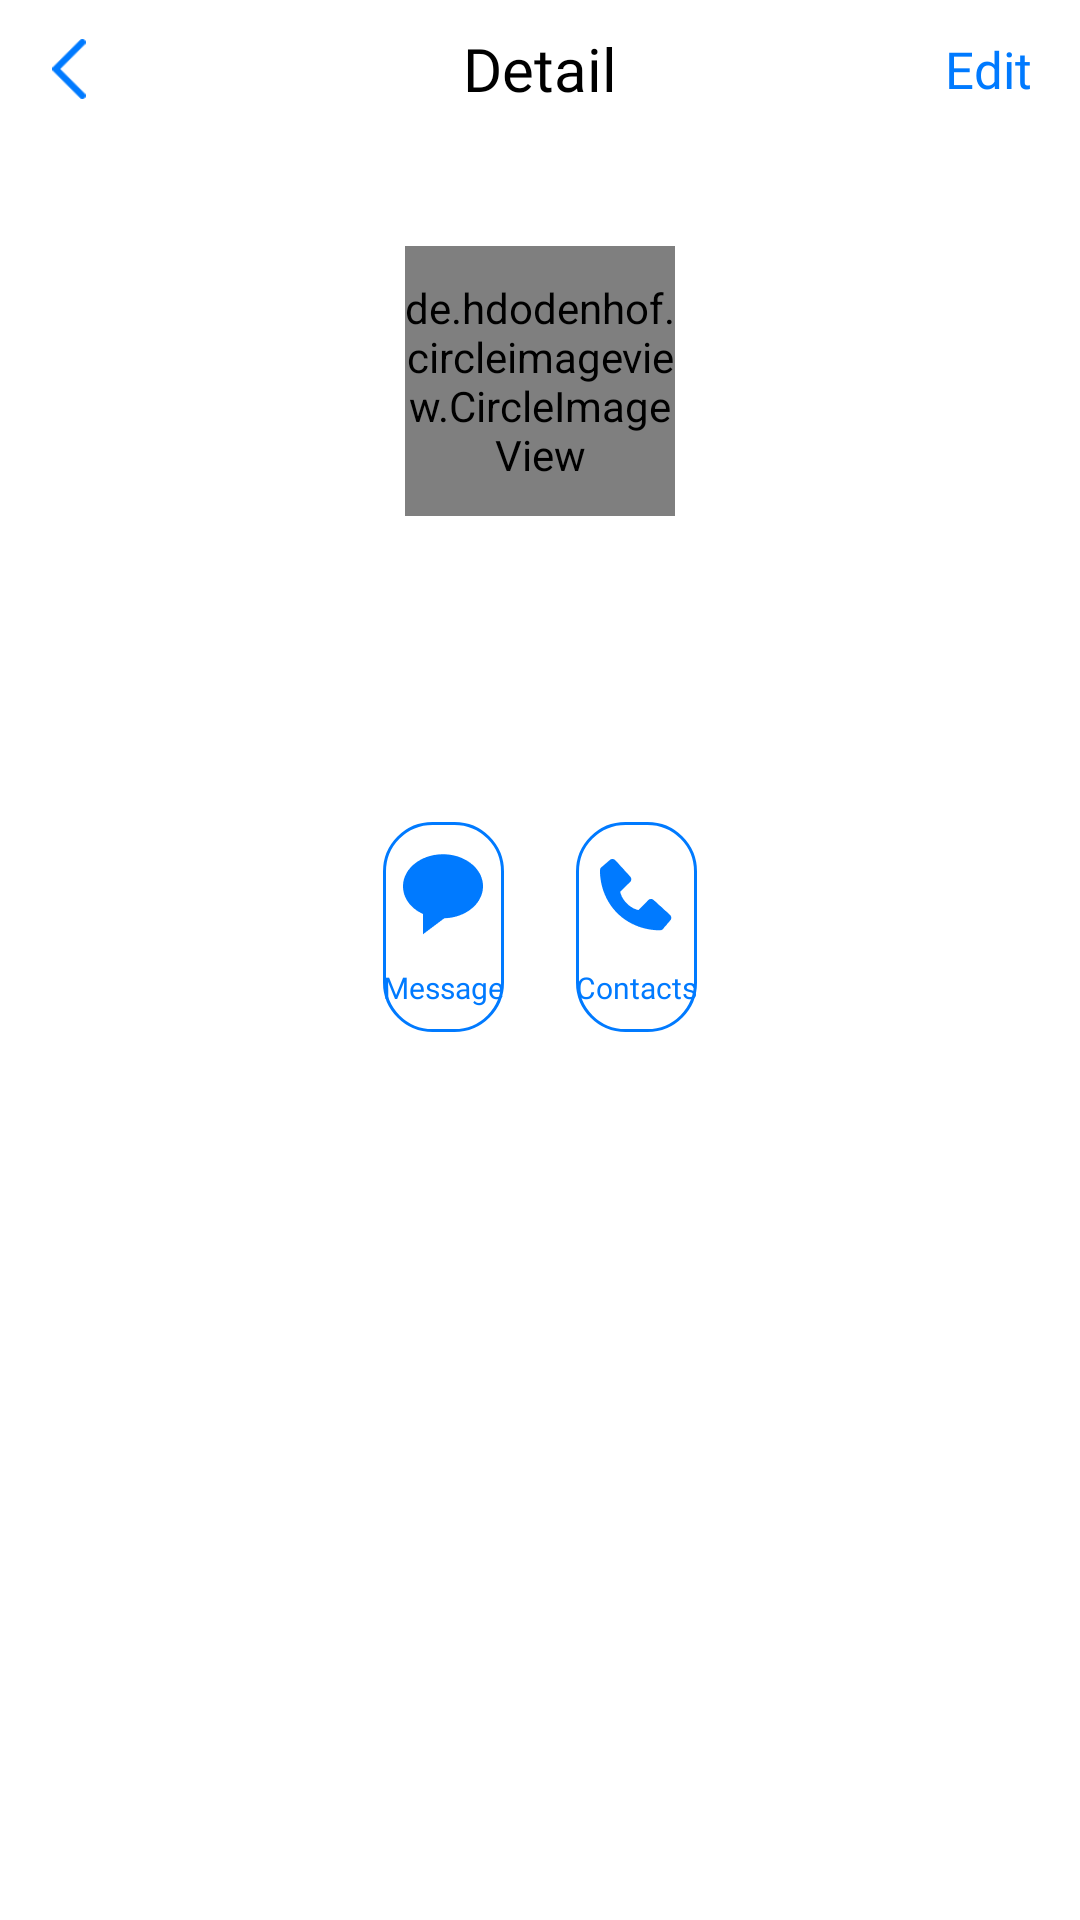

Icon click points for this 1080w x 1920h phone screenshot, format [x,y]:
back: [69,69]
